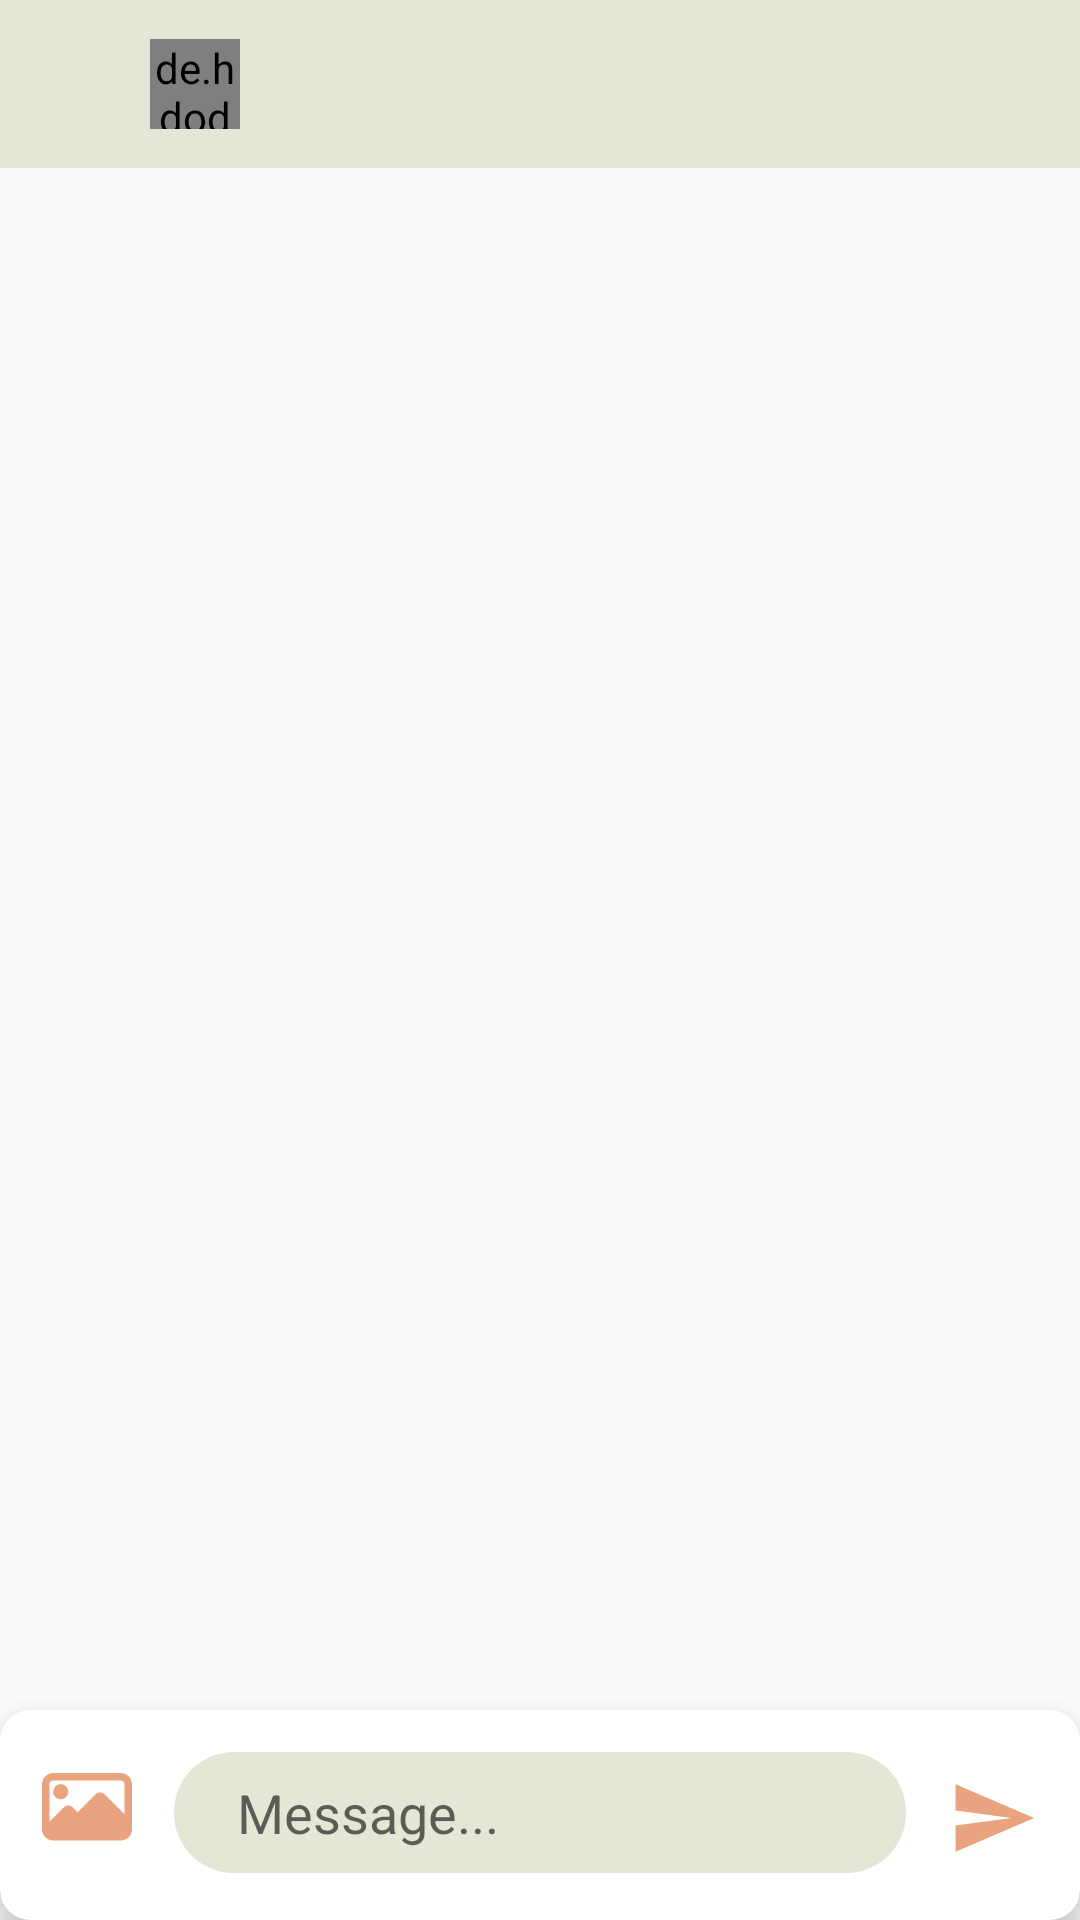

Screen size 1080 × 1920. Icon name, then its center in pixels as [x,y]:
send: [994,1818]
